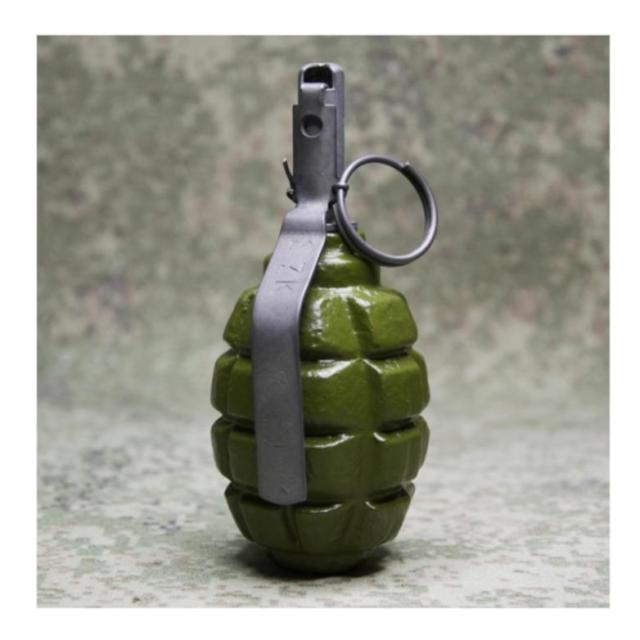grenade: (211, 65, 438, 567)
